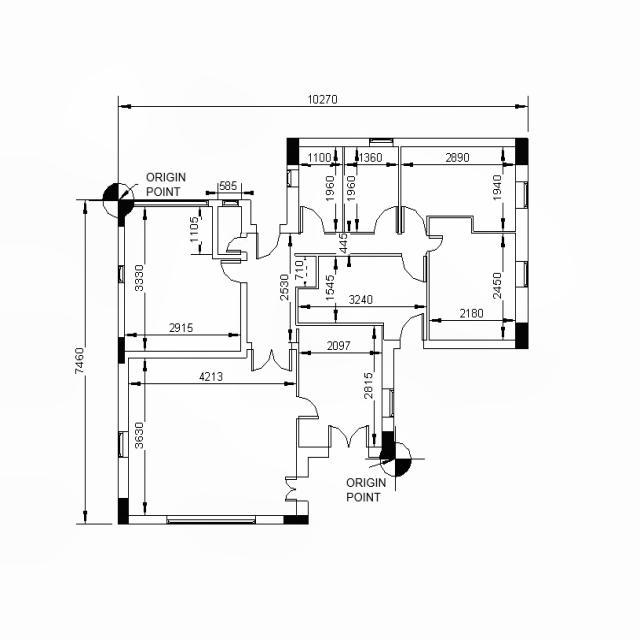Column: (515, 138, 529, 166), (286, 138, 300, 166), (516, 322, 528, 350), (382, 431, 394, 458), (118, 498, 129, 524), (284, 515, 308, 525), (118, 337, 125, 364), (118, 200, 125, 227)
Door: (400, 313, 424, 349), (256, 224, 280, 259), (401, 206, 427, 235), (300, 206, 325, 234), (402, 253, 426, 282), (374, 206, 398, 234), (221, 260, 247, 283), (296, 396, 319, 419), (226, 237, 246, 252), (426, 236, 443, 252)
Double-Door: (328, 426, 369, 458), (252, 342, 292, 370), (285, 476, 309, 502)
Window: (167, 516, 256, 524), (133, 199, 210, 207), (516, 260, 528, 288), (382, 389, 394, 417), (516, 182, 528, 208), (118, 431, 128, 458), (369, 138, 393, 148), (287, 170, 299, 188), (222, 199, 239, 207), (118, 265, 125, 283)
